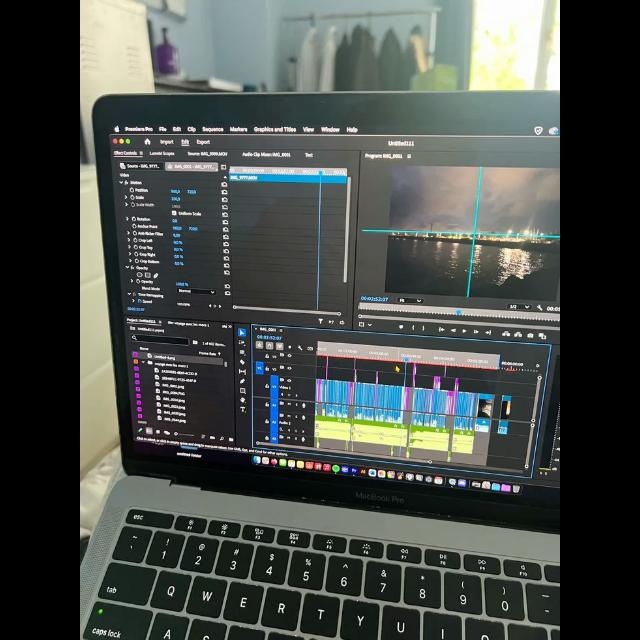laptop: (90, 80, 560, 620)
